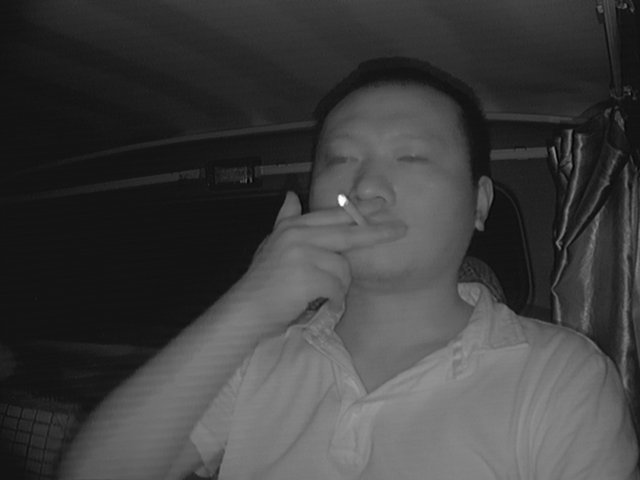hand: (291, 195, 403, 304)
